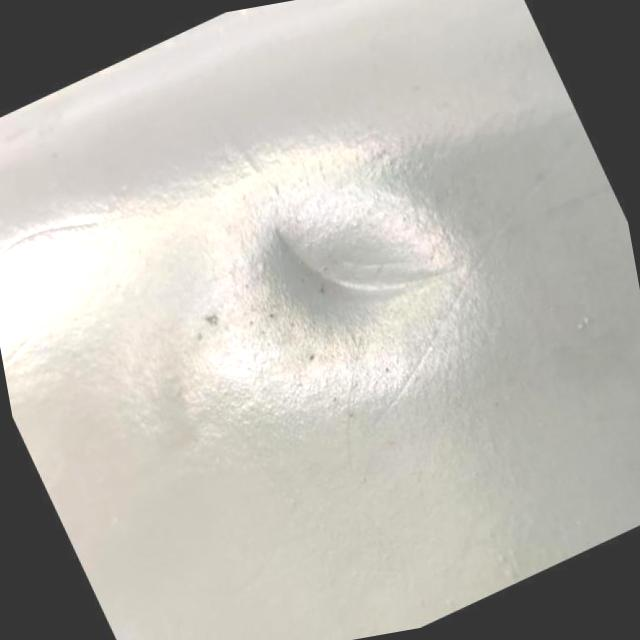dent: (266, 188, 467, 348)
